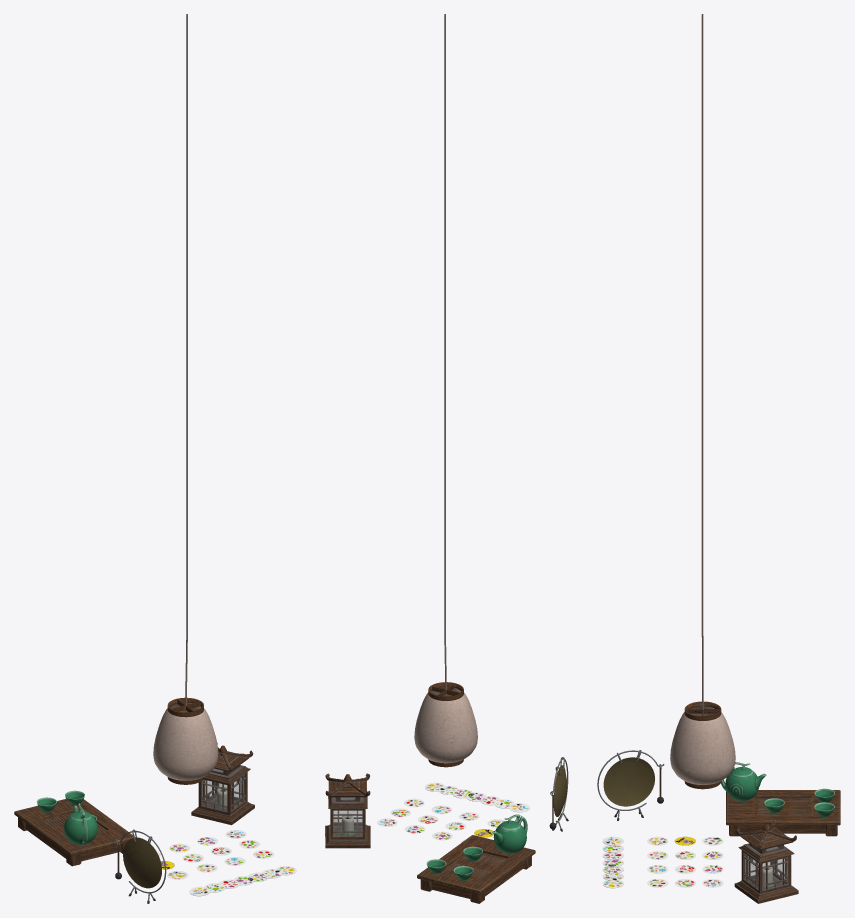
Rendered from area.glb.
3 views of the same model, side by side, from view 1: azimuth 30°, elevation 25°; view 2: azimuth 150°, elevation 25°; view 3: azimuth 270°, elevation 25° (orthographic). The views are drawn at different scales.
Parts seen in each view (by area): view 1: сhandelier, table, lamp, gonk, teapot; view 2: сhandelier, table, lamp, teapot, gonk; view 3: сhandelier, table, lamp, gonk, teapot.
Boxes of the visible parts, x1,y1,x2,y2 form: сhandelier: [153, 14, 218, 784]; table: [14, 799, 135, 866]; lamp: [191, 742, 254, 825]; gonk: [115, 829, 166, 903]; teapot: [64, 803, 97, 844]; сhandelier: [414, 14, 477, 767]; table: [417, 835, 535, 903]; lamp: [325, 773, 370, 848]; teapot: [492, 814, 527, 853]; gonk: [549, 757, 568, 831]; сhandelier: [670, 14, 735, 789]; table: [726, 790, 840, 836]; lamp: [734, 820, 798, 903]; gonk: [597, 750, 664, 820]; teapot: [721, 762, 766, 801].
Size of the model in its own units: 1.01 by 4.06 by 1.06.
Materials: 24 (24 with a texture image).
